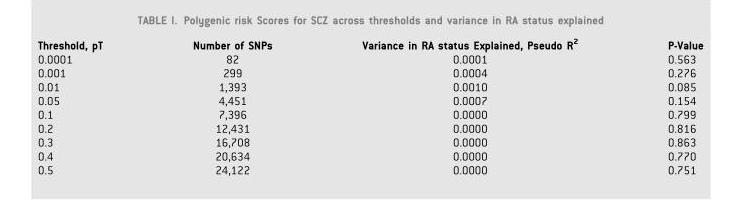table: (36, 36, 702, 176)
table column: (316, 36, 622, 176), (146, 36, 316, 176), (36, 36, 146, 176), (622, 36, 702, 176)
table column header: (36, 36, 702, 52)
table row: (36, 36, 702, 52), (36, 52, 702, 66), (36, 66, 702, 80), (36, 93, 702, 107), (36, 107, 702, 121), (36, 121, 702, 135), (36, 135, 702, 149), (36, 149, 702, 163), (36, 80, 702, 93), (36, 163, 702, 176)
